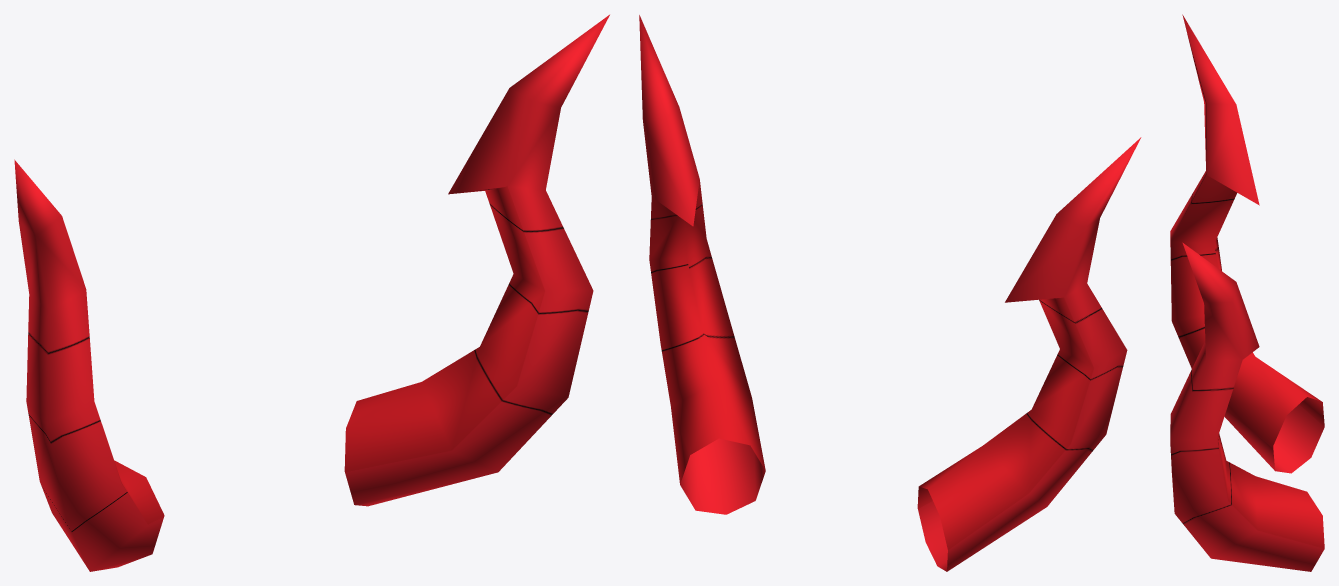
The model's file is ifrit_horn.fbx.
3 views of the same model, side by side, from view 1: azimuth 30°, elevation 25°; view 2: azimuth 150°, elevation 25°; view 3: azimuth 270°, elevation 25° (orthographic). The views are drawn at different scales.
Visible parts, largest first — view 1: ifrit_horn_mesh; view 2: ifrit_horn_mesh; view 3: ifrit_horn_mesh.
Boxes of the visible parts, x1,y1,x2,y2 form: ifrit_horn_mesh: (14, 14, 609, 571); ifrit_horn_mesh: (639, 15, 1141, 571); ifrit_horn_mesh: (1170, 14, 1324, 571).
Bounding box in the file's own units: 4.15 × 3.33 × 1.19.
